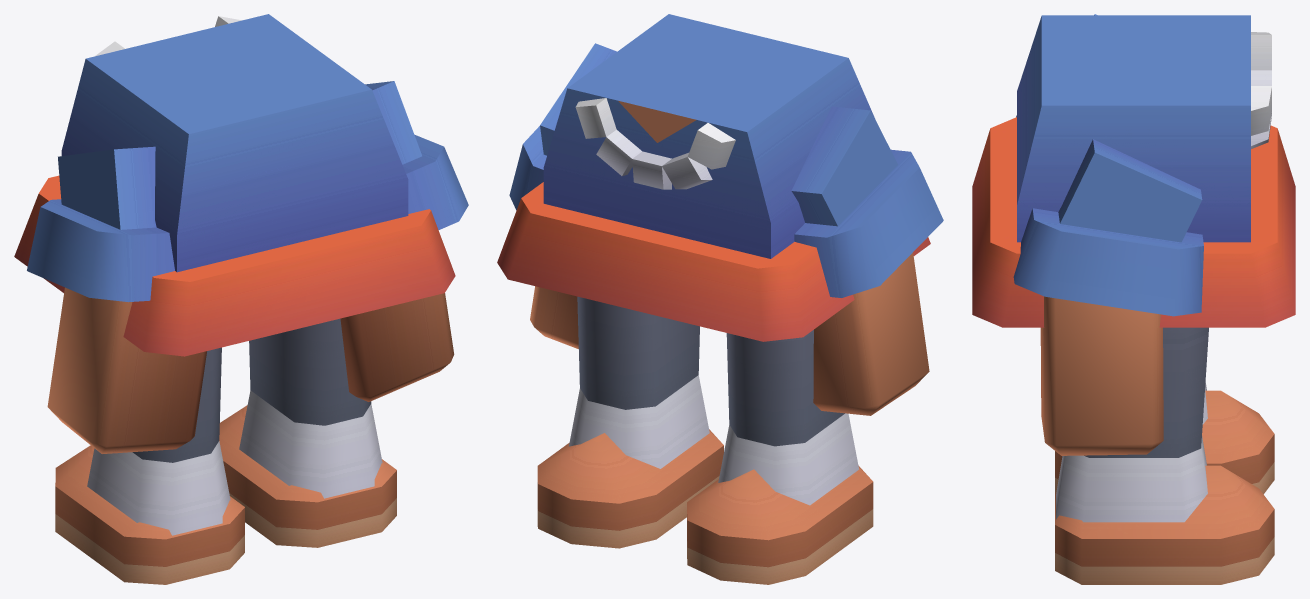
File: mini-female-c.glb
3 renders of one model, left to right at view 1: azimuth 30°, elevation 25°; view 2: azimuth 150°, elevation 25°; view 3: azimuth 270°, elevation 25°, orthographic. The views are drawn at different scales.
Visible parts, largest first — view 1: body-mesh; view 2: body-mesh; view 3: body-mesh.
Boxes of the visible parts, <box> form: body-mesh: <box>14,14,468,584</box>; body-mesh: <box>497,14,943,584</box>; body-mesh: <box>972,14,1295,584</box>.
Bounding box in the file's own units: 1.23 × 1.4 × 0.8948.
1 material, 1 textured.
